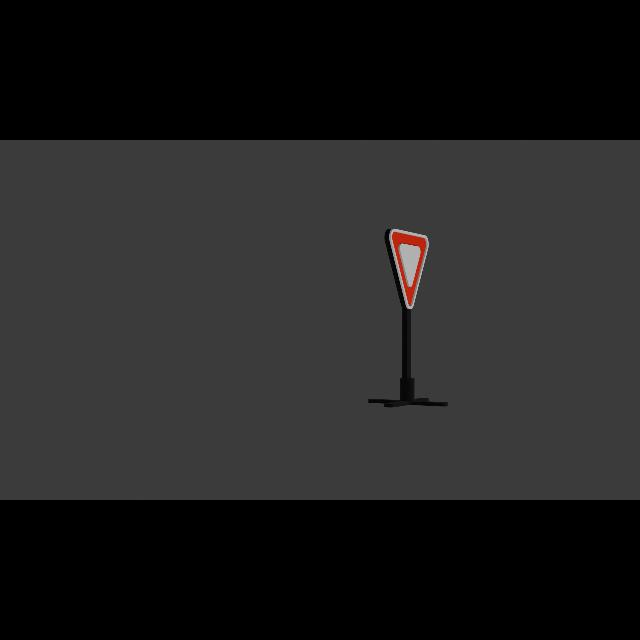sign_yield: (388, 228, 430, 310)
